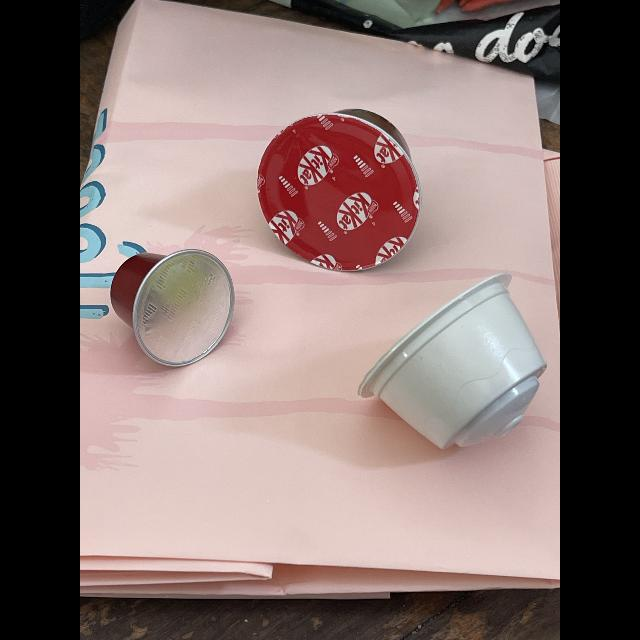intact_capsule: (356, 268, 560, 460), (253, 102, 424, 278), (100, 243, 244, 374)
